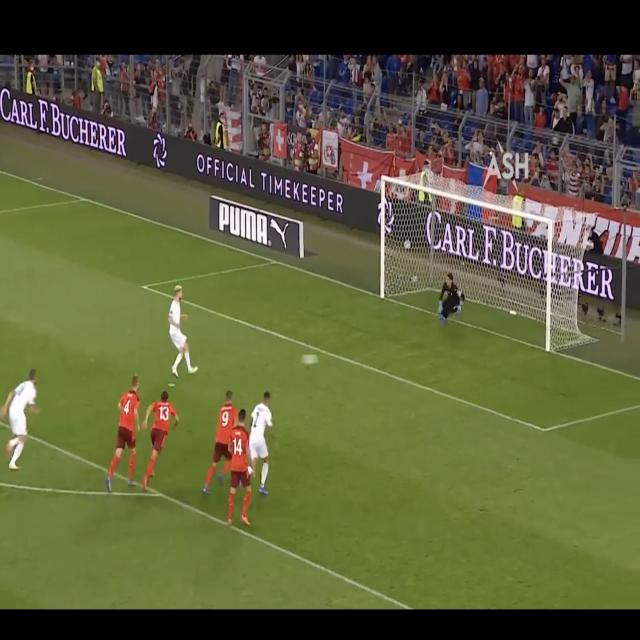left-top: (384, 176, 464, 202)
soccer-goal: (383, 176, 547, 349)
